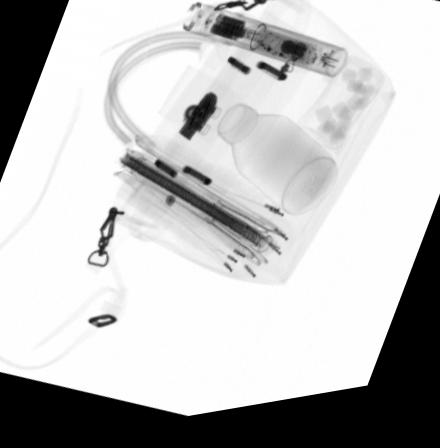Baton: (181, 7, 348, 90)
